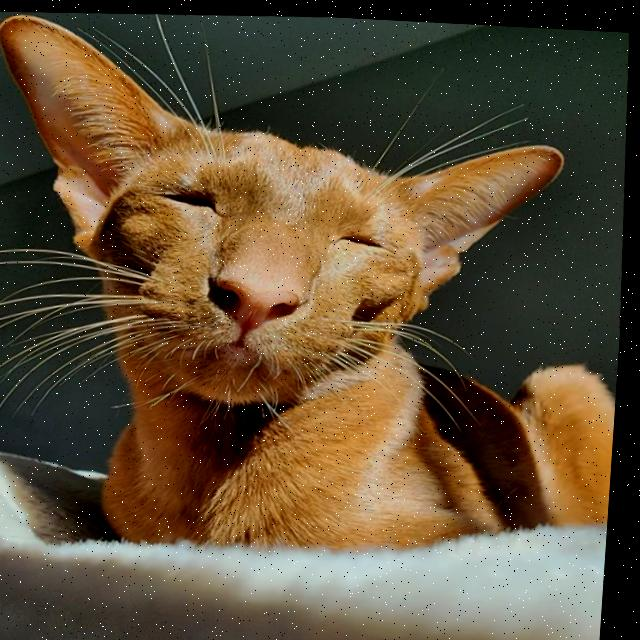Oriental: (0, 0, 640, 570)
